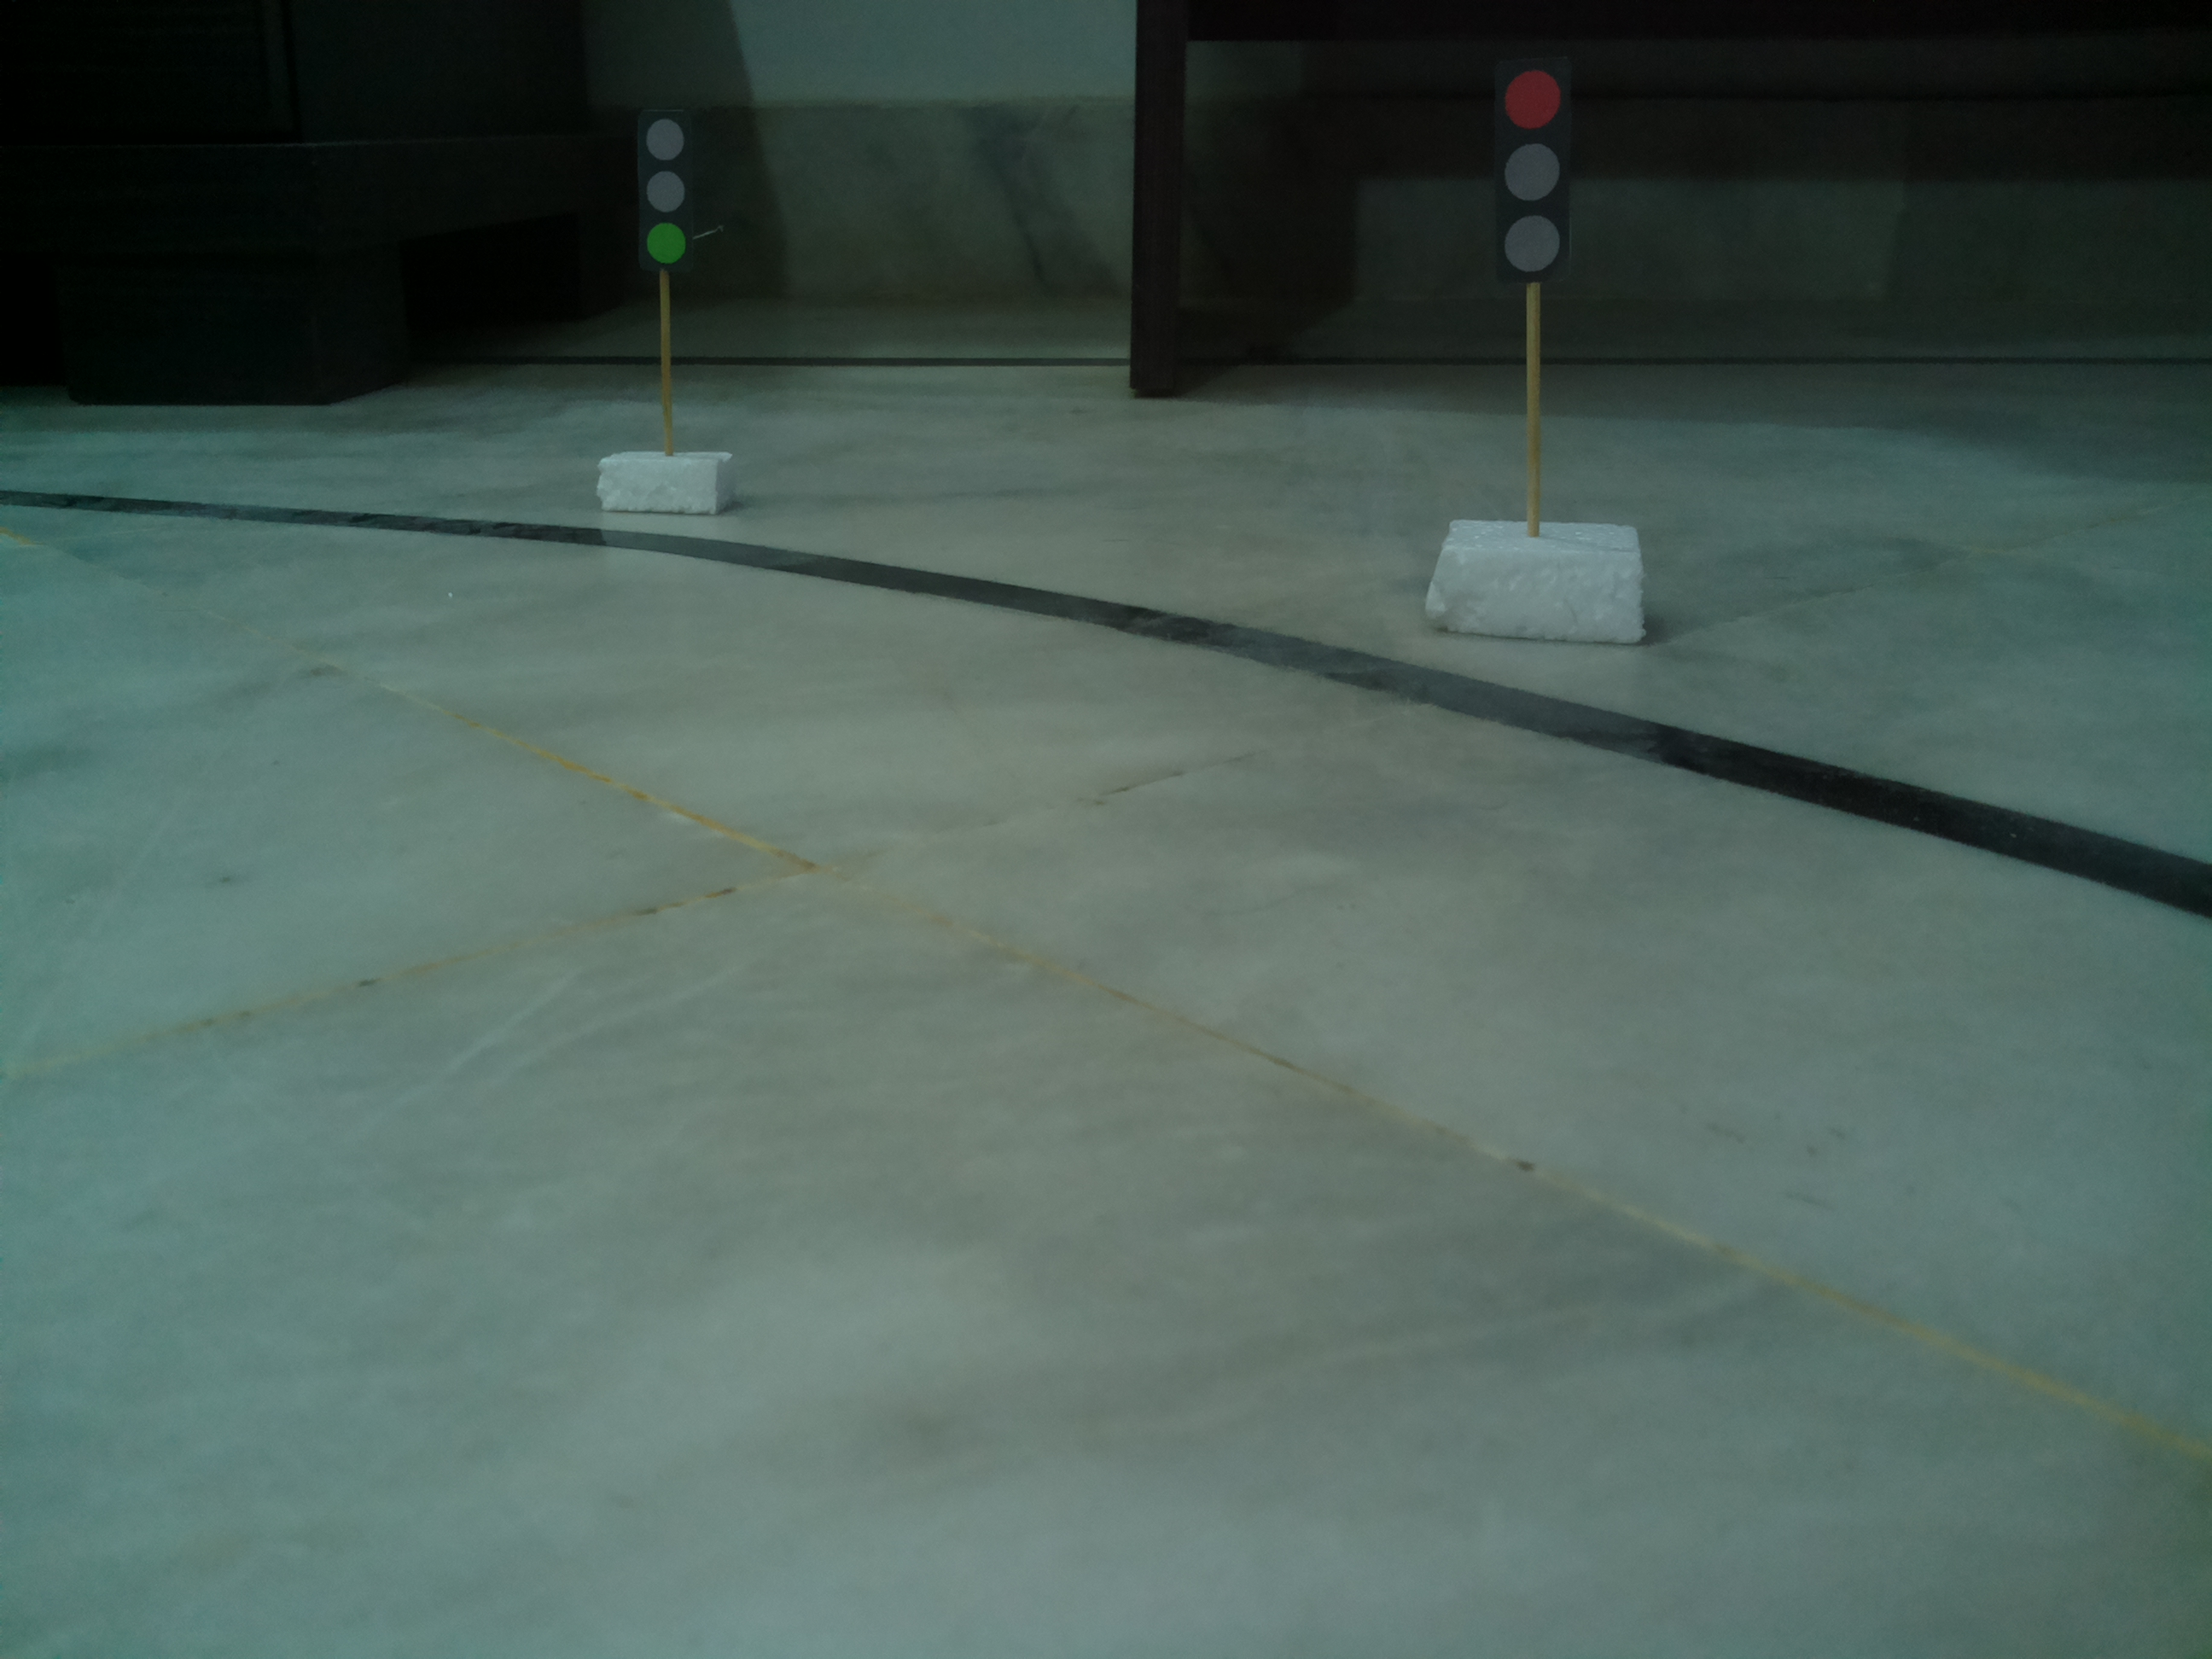Green traffic light: (631, 103, 719, 268)
Red traffic light: (1480, 47, 1583, 291)
